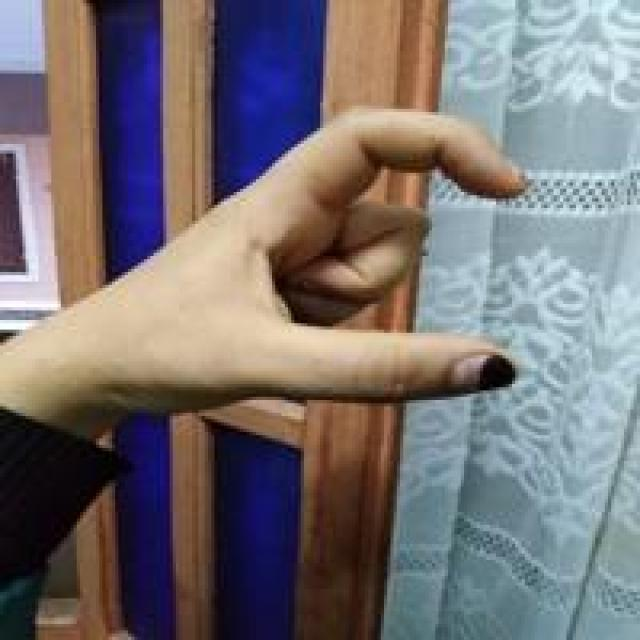Q: (56, 99, 539, 416)
